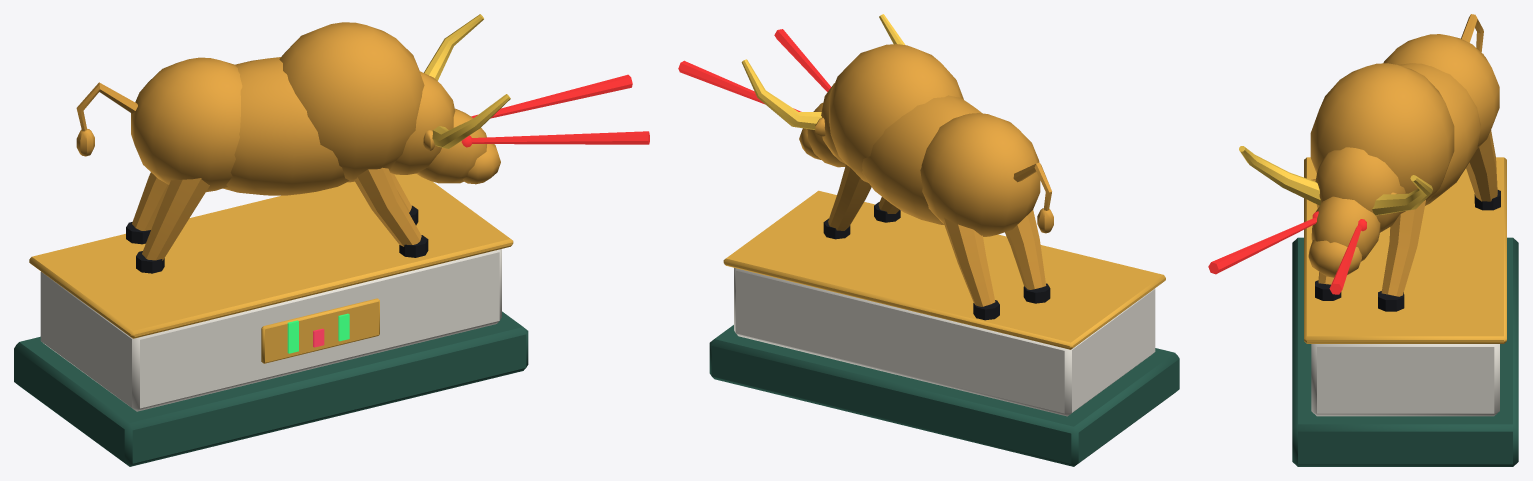
File: ex_bull.glb
The picture shows the model from 3 angles, left to right: view 1: azimuth 30°, elevation 25°; view 2: azimuth 150°, elevation 25°; view 3: azimuth 270°, elevation 25°; orthographic projection. The views are drawn at different scales.
Visible parts, largest first — view 1: ex_bull, fx_glow_eyes; view 2: ex_bull, fx_glow_eyes; view 3: ex_bull, fx_glow_eyes.
Part boxes in pixels (bbox=[...]): ex_bull: bbox=[14, 14, 528, 466]; fx_glow_eyes: bbox=[461, 74, 649, 147]; ex_bull: bbox=[709, 14, 1179, 466]; fx_glow_eyes: bbox=[678, 29, 830, 111]; ex_bull: bbox=[1239, 14, 1518, 466]; fx_glow_eyes: bbox=[1208, 211, 1366, 294].
Bounding box in the file's own units: 6.25 × 3.9 × 3.29.
2 materials, 2 textured.
